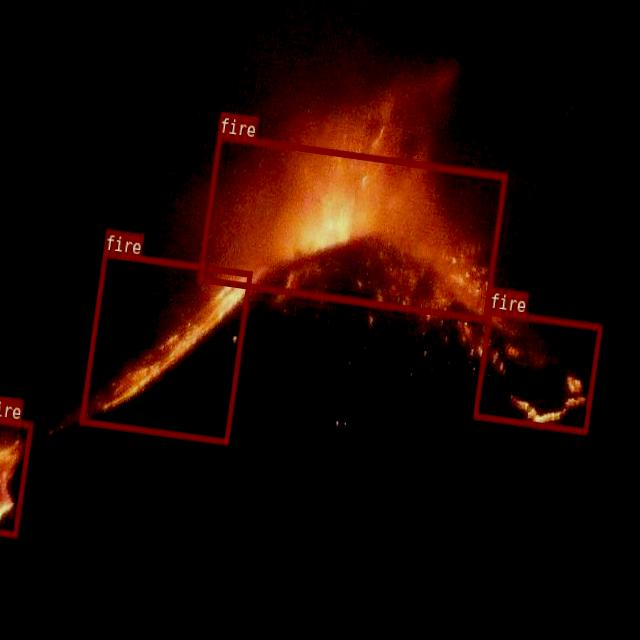fire: (197, 133, 507, 321), (79, 249, 252, 443), (472, 307, 602, 433), (0, 414, 32, 536)
